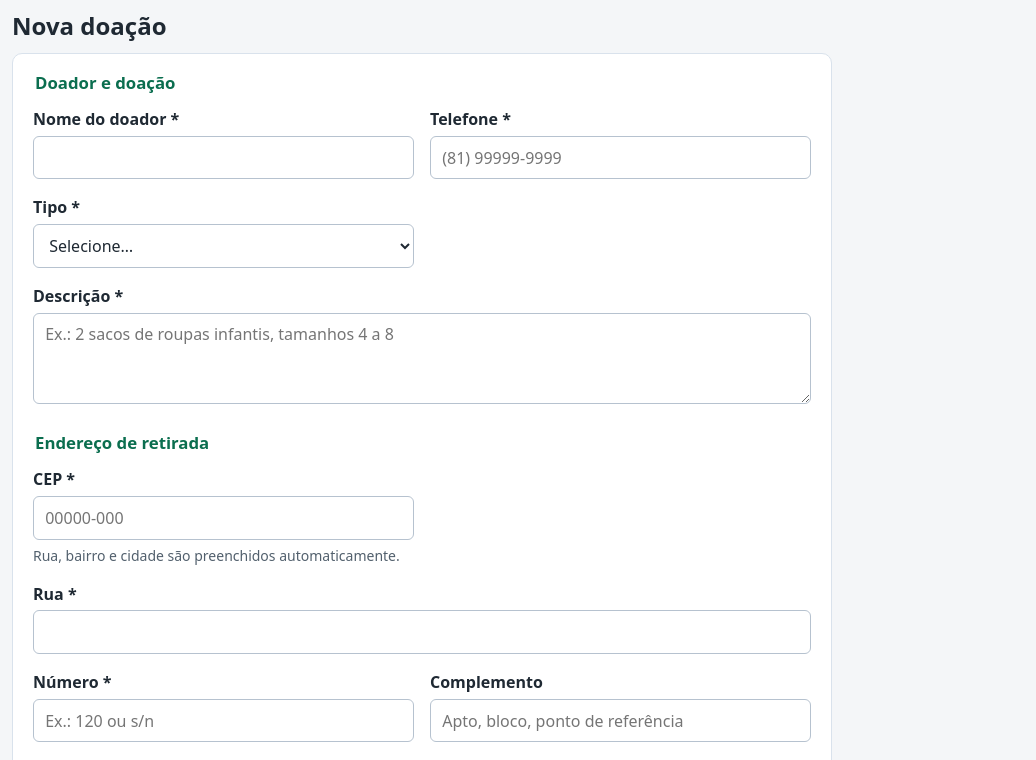
it: ao completar o CEP, preenche rua, bairro, cidade e UF e foca no número
Step 1. Type "50030230" into the field labelled "CEP" → point(224, 518), box [33,496,414,540]
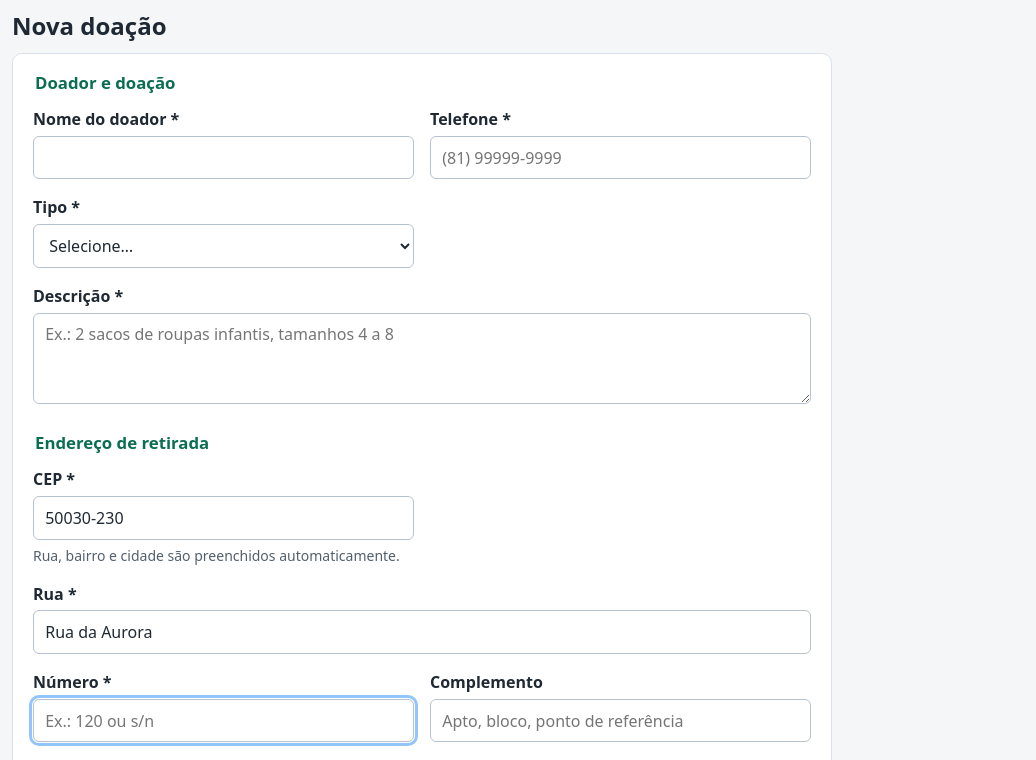
expect the field labelled "Rua" holds "Rua da Aurora": met, box [33,610,811,654]
expect the field labelled "CEP" holds "50030-230": met, box [33,496,414,540]
